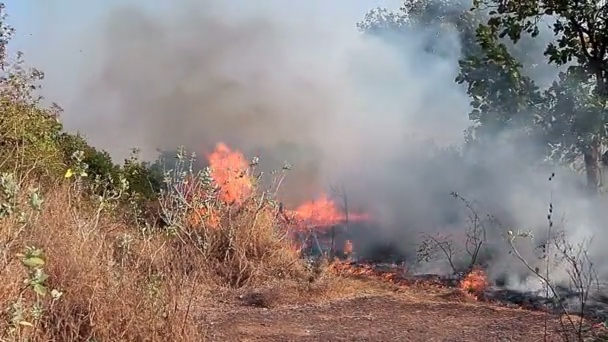fire: (206, 146, 247, 192), (296, 199, 338, 223), (464, 270, 484, 294), (65, 168, 72, 181)
